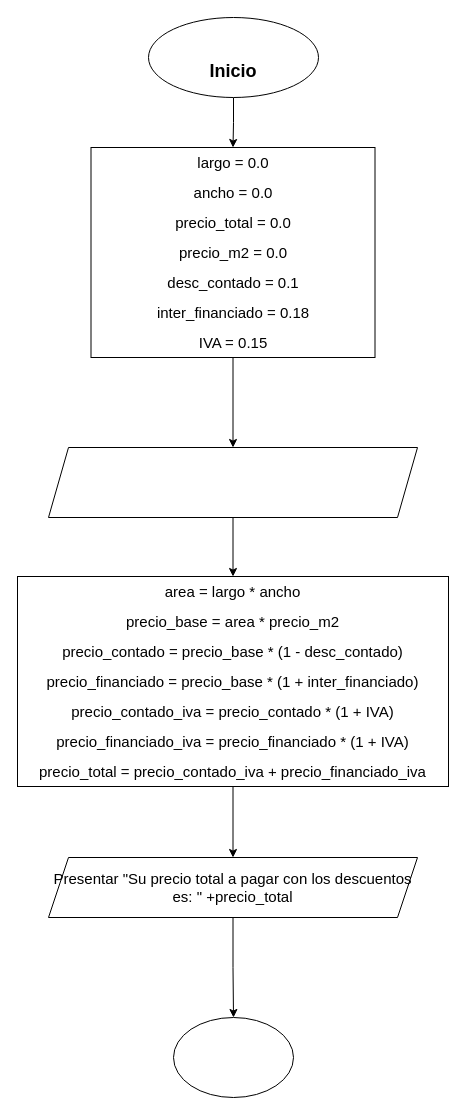
Some shapes in this 466 by 1115 pixel diagram are drawn without their labels. The shapes that lost their labels are listed below. From the top down, each one's centre as x and y in pixels, then its label:
[233,482]: Leer largo Leer ancho Leer precio_total
[233,1057]: Fin
